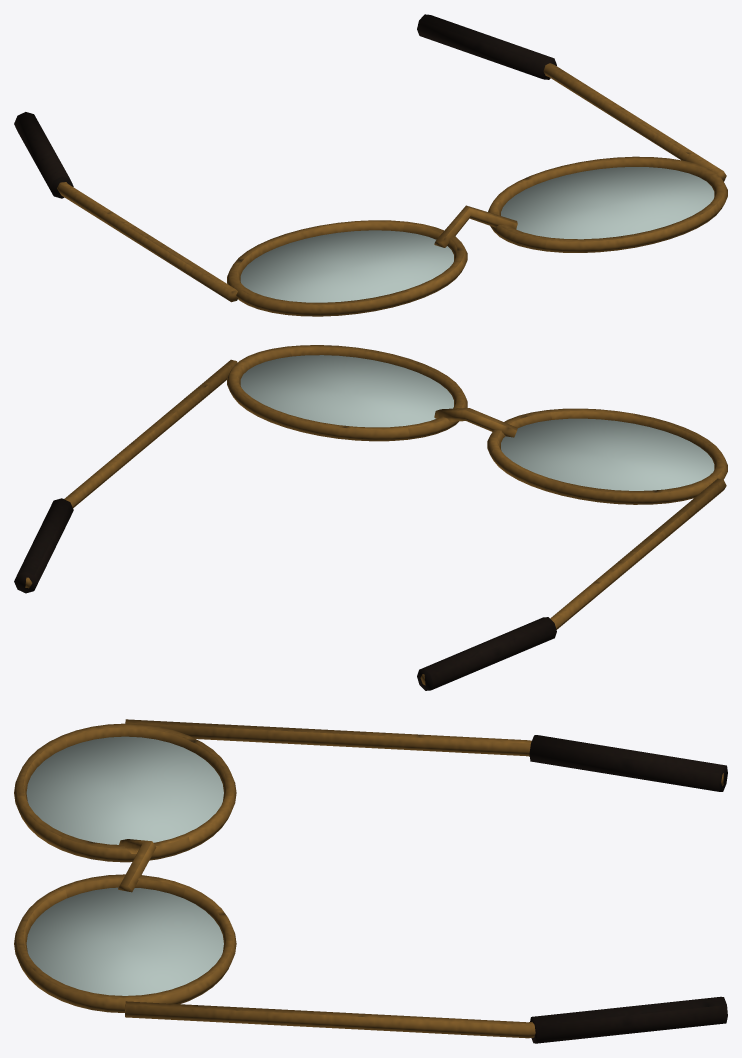
The model's file is brass_eyeglasses.glb.
3 views of the same model, one above another, from view 1: azimuth 30°, elevation 25°; view 2: azimuth 150°, elevation 25°; view 3: azimuth 270°, elevation 25° (orthographic). The views are drawn at different scales.
Parts seen in each view (by area): view 1: HC02_brass_eyeglasses; view 2: HC02_brass_eyeglasses; view 3: HC02_brass_eyeglasses.
Part boxes in pixels (bbox=[...]): HC02_brass_eyeglasses: bbox=[14, 14, 727, 316]; HC02_brass_eyeglasses: bbox=[14, 345, 727, 690]; HC02_brass_eyeglasses: bbox=[14, 719, 727, 1043].
Bounding box in the file's own units: 0.1208 × 0.0127 × 0.1241.
Materials: 3 (2 with a texture image).
